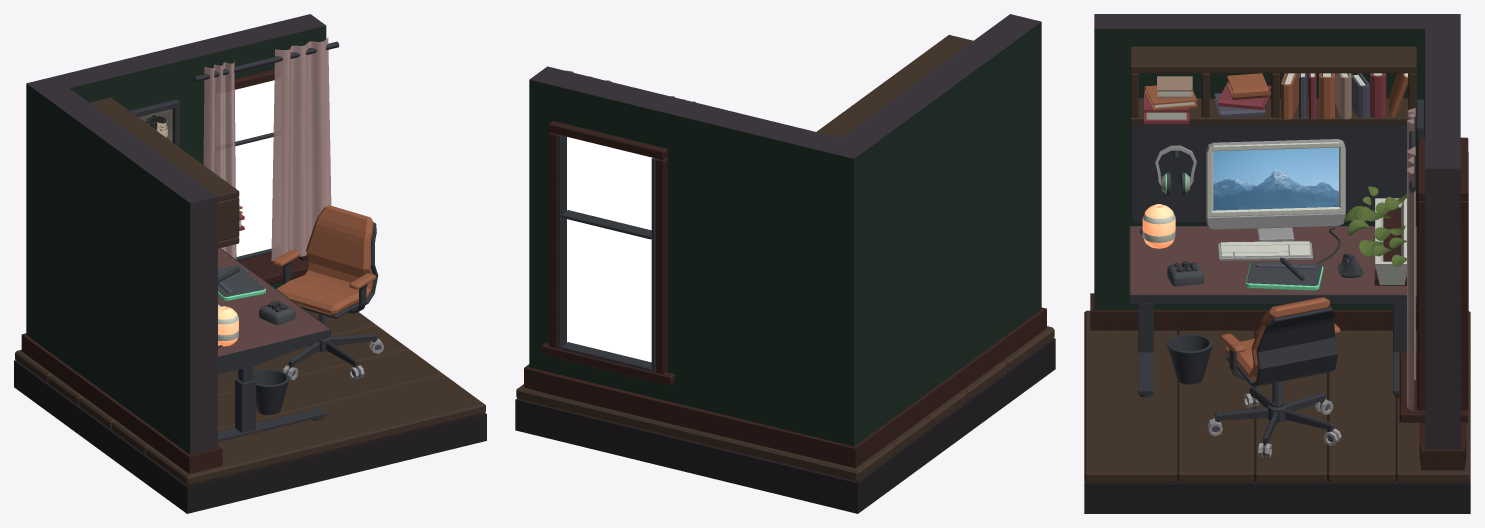
The model's file is cozy_workplace_corner-transformed.glb.
3 renders of one model, left to right at view 1: azimuth 30°, elevation 25°; view 2: azimuth 150°, elevation 25°; view 3: azimuth 270°, elevation 25°, orthographic. The views are drawn at different scales.
Parts seen in each view (by area): view 1: Tourbox controller_Black1_0, Curtain L_Curtains_0, window plane_Light Outside_0, Monoblock_Metal_0, Poster_Photo_0, Soft Paper Lamp_Paper Lamp_0; view 2: Tourbox controller_Black1_0, window plane_Light Outside_0; view 3: Tourbox controller_Black1_0, Monoblock_White_0, Monoblock_Screen_0, Monoblock_Metal_0, Curtain L_Curtains_0, Soft Paper Lamp_Paper Lamp_0.
Part boxes in pixels (bbox=[...]): Tourbox controller_Black1_0: bbox=[14, 14, 486, 513]; Curtain L_Curtains_0: bbox=[203, 37, 331, 260]; window plane_Light Outside_0: bbox=[235, 80, 274, 256]; Monoblock_Metal_0: bbox=[218, 265, 384, 379]; Poster_Photo_0: bbox=[138, 109, 172, 141]; Soft Paper Lamp_Paper Lamp_0: bbox=[218, 306, 238, 346]; Tourbox controller_Black1_0: bbox=[515, 14, 1055, 513]; window plane_Light Outside_0: bbox=[567, 137, 652, 362]; Tourbox controller_Black1_0: bbox=[1084, 14, 1470, 513]; Monoblock_White_0: bbox=[1142, 73, 1407, 284]; Monoblock_Screen_0: bbox=[1213, 147, 1338, 210]; Monoblock_Metal_0: bbox=[1155, 139, 1361, 457]; Curtain L_Curtains_0: bbox=[1407, 108, 1415, 411]; Soft Paper Lamp_Paper Lamp_0: bbox=[1142, 204, 1175, 248].
Size of the model in its own units: 3.5 by 3.41 by 3.5.
8 materials, 8 textured.
